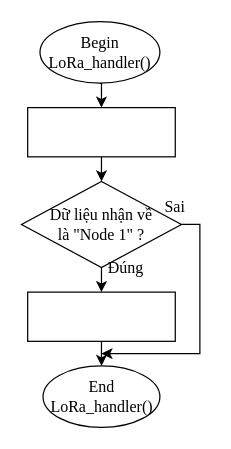
This 231x449 diagram has some shape labels left out. The shapes that lost their labels are listed below. From the top down, each one's centre as x and y in pixels, then its label:
point (100, 131): Đọc dữ liệu nhận từ LoRa
point (100, 316): Đặt biến cờ flag =1
